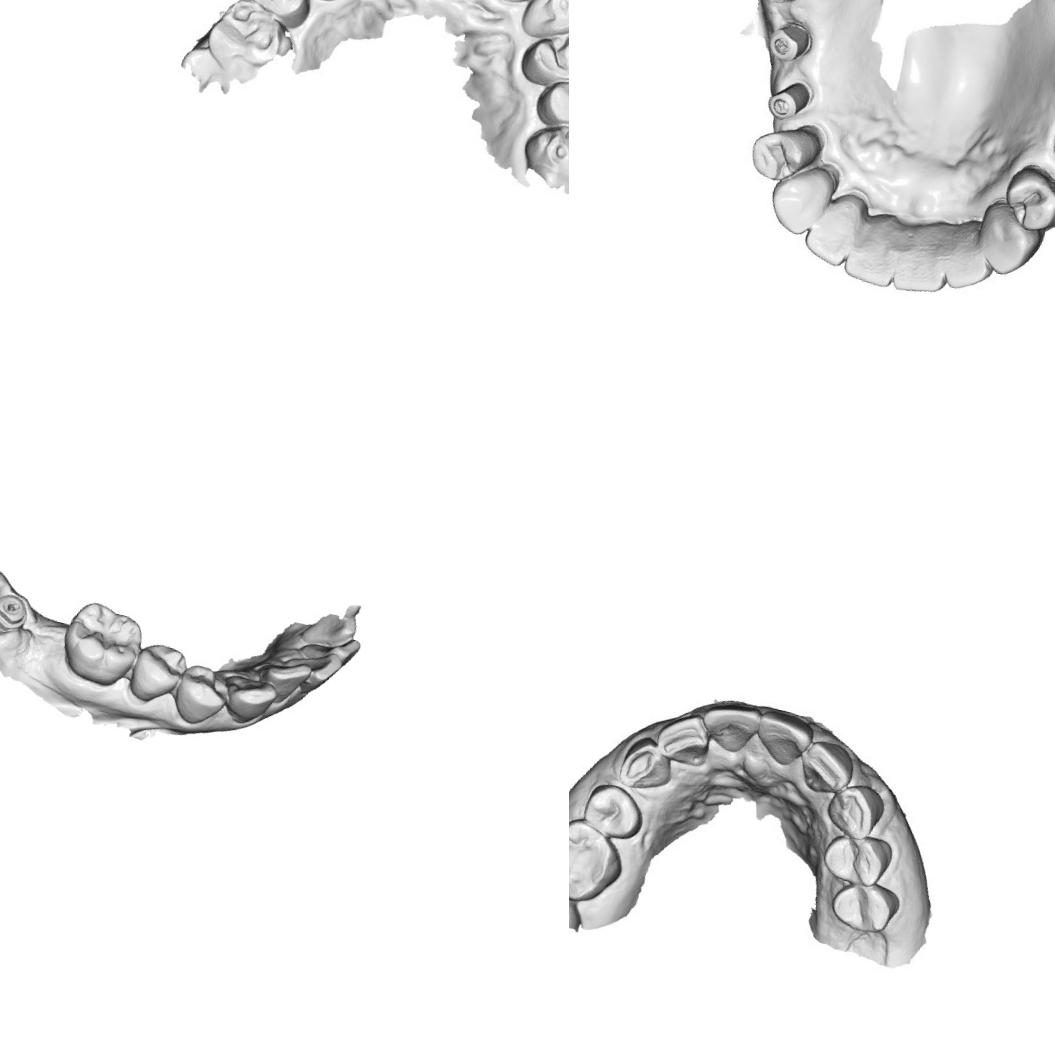canine: (972, 198, 1048, 281), (764, 159, 838, 242), (822, 778, 890, 844), (611, 732, 676, 798), (214, 670, 280, 730), (516, 0, 569, 46)
implant: (760, 72, 816, 125), (767, 18, 815, 67), (752, 0, 803, 10)
implant_minus: (0, 587, 32, 637)
incisor: (889, 233, 958, 302), (797, 202, 859, 271), (840, 226, 901, 291), (942, 230, 999, 296), (755, 708, 815, 770), (251, 652, 313, 710), (794, 738, 852, 800), (702, 702, 762, 758), (281, 642, 346, 692), (297, 604, 360, 654), (660, 712, 711, 770)
molar: (53, 596, 150, 693), (197, 0, 300, 88), (569, 816, 634, 913), (515, 106, 569, 202)
premolar: (812, 824, 900, 892), (748, 118, 820, 187), (124, 637, 192, 710), (168, 660, 234, 732), (995, 160, 1055, 238), (513, 17, 569, 98), (828, 877, 900, 938), (584, 782, 648, 838), (532, 66, 569, 136), (238, 0, 319, 31)
